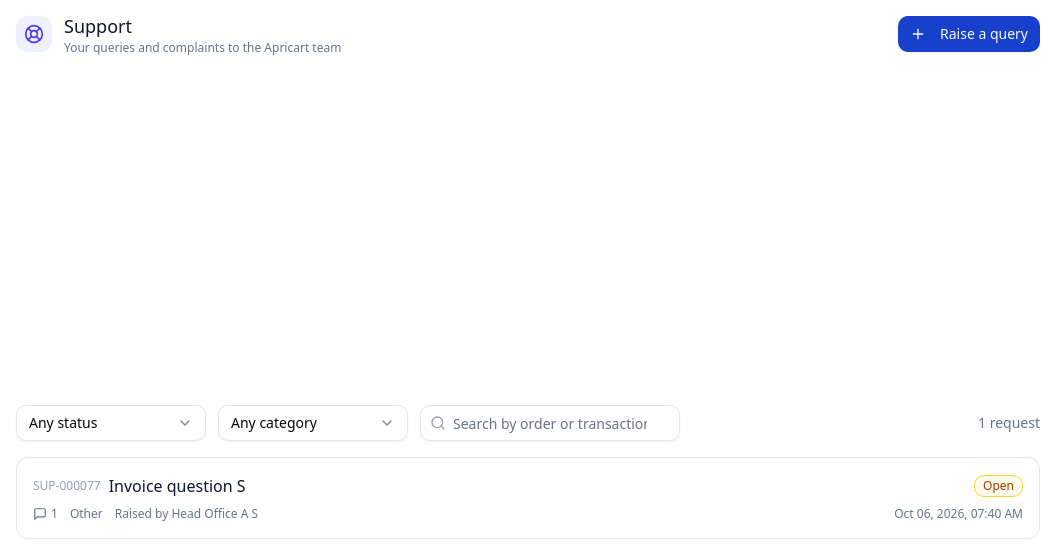
Test: support list › lists the caller's threads and sends the order search to the server
The image size is (1057, 556).
Expected: the text "Invoice question S" is shown, [109,475,246,497]
Type "TID-1" into the field with placeholder "Search by order or transaction ID" at (550, 423), box [420,405,680,441]
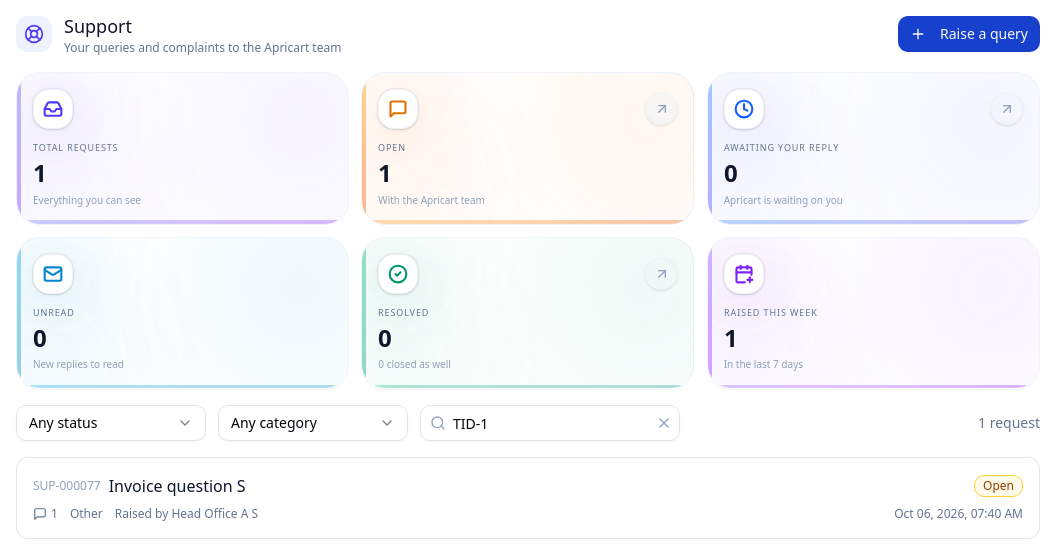
Click the button named "Clear the order search" at (664, 423), box [656,415,672,431]
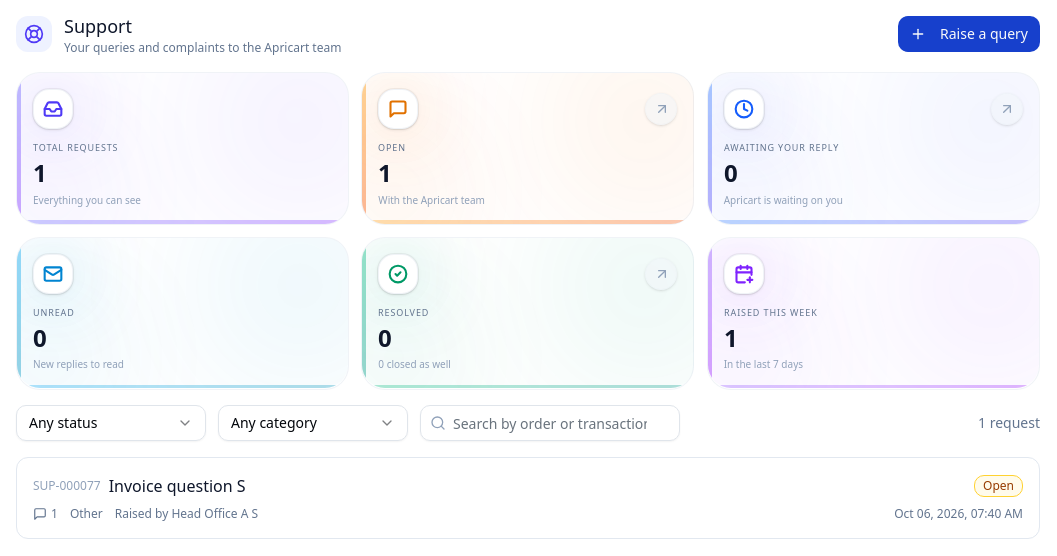
Result: the field with placeholder "Search by order or transaction ID" is empty at [420,405,680,441]
